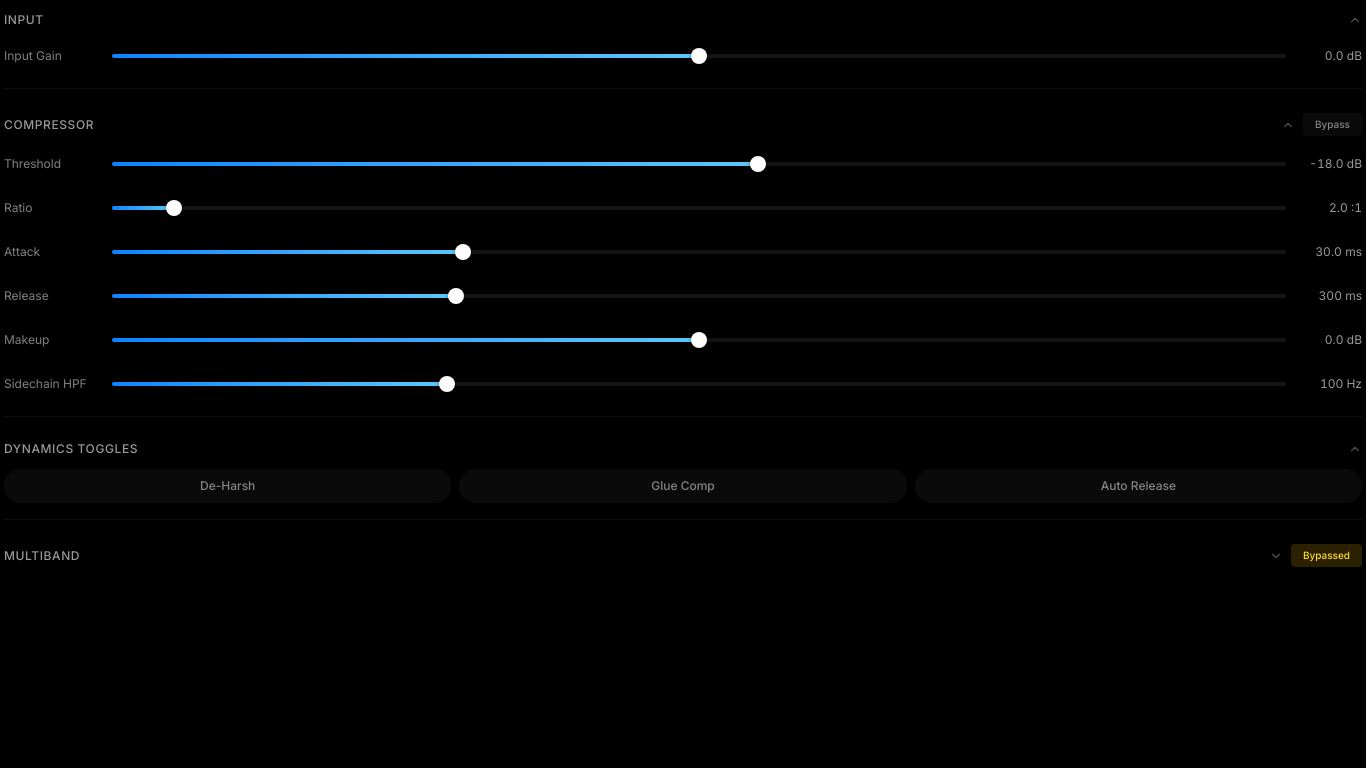
Test: AdvancedMastering — Multiband section › expanded section shows Low, Mid, and High band rows with ON/OFF + Solo buttons
The image size is (1366, 768).
Expand the Multiband section
Click the button "Multiband" at (42, 555), box [4,548,1283,564]
(page scrolled)
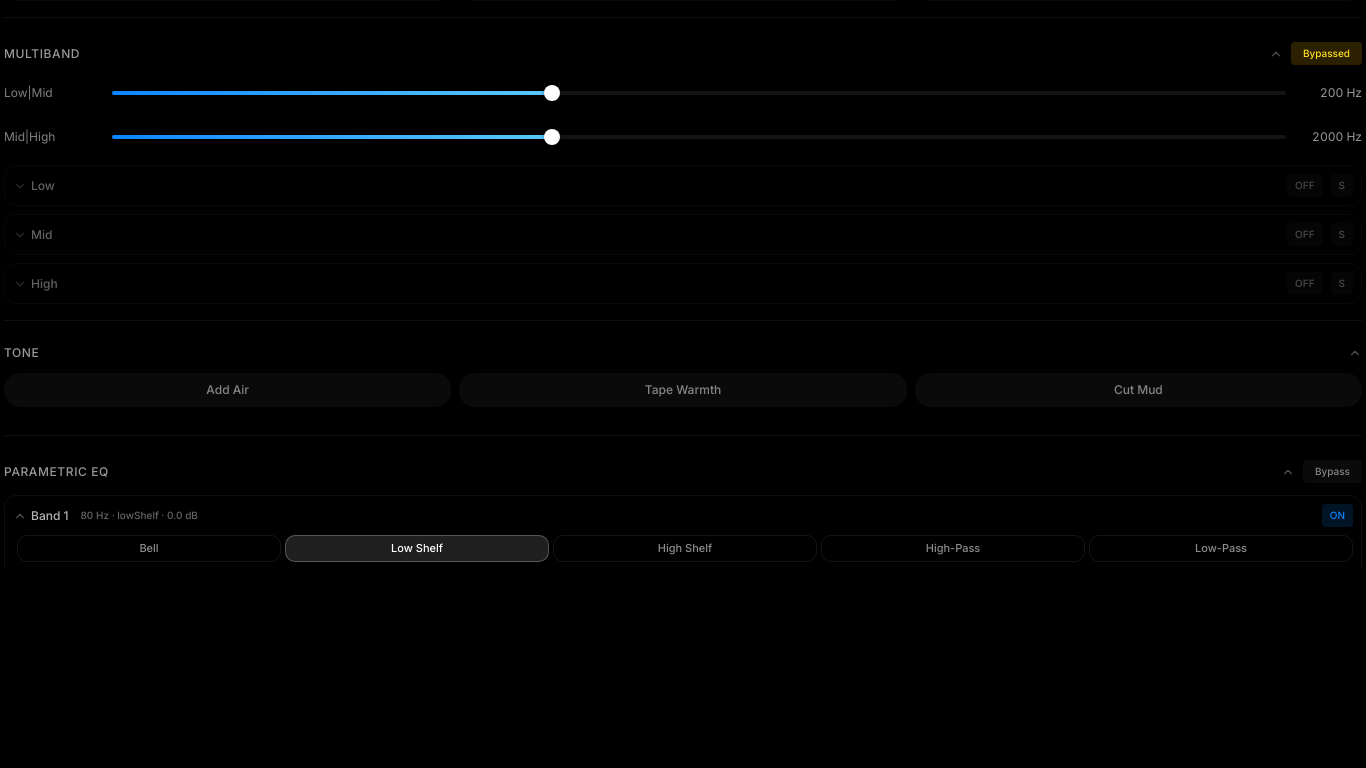
Result: the button "Low" is shown at [13,178,1279,194]
Result: the button "Mid" is shown at [13,226,1279,242]
Result: the button "High" is shown at [13,276,1279,292]
